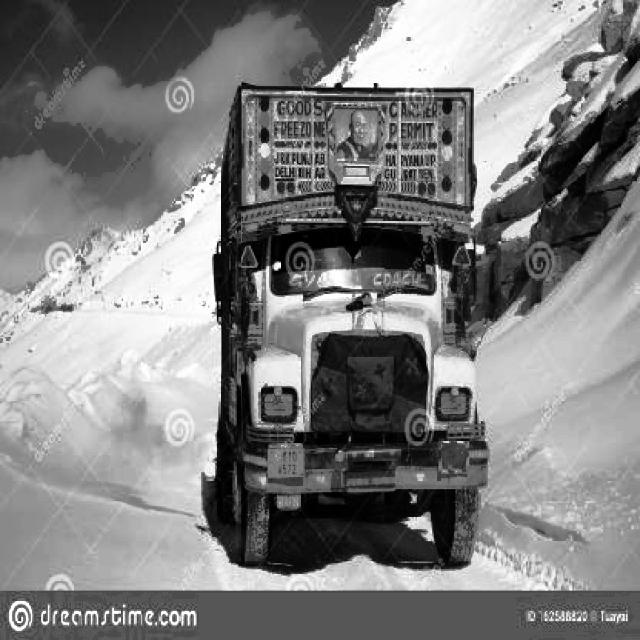HCV: (216, 94, 478, 552)
